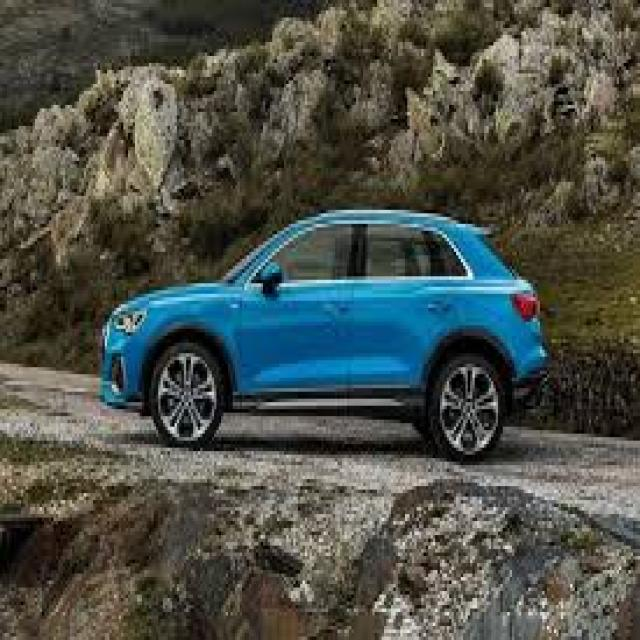SUV: (96, 203, 552, 462)
